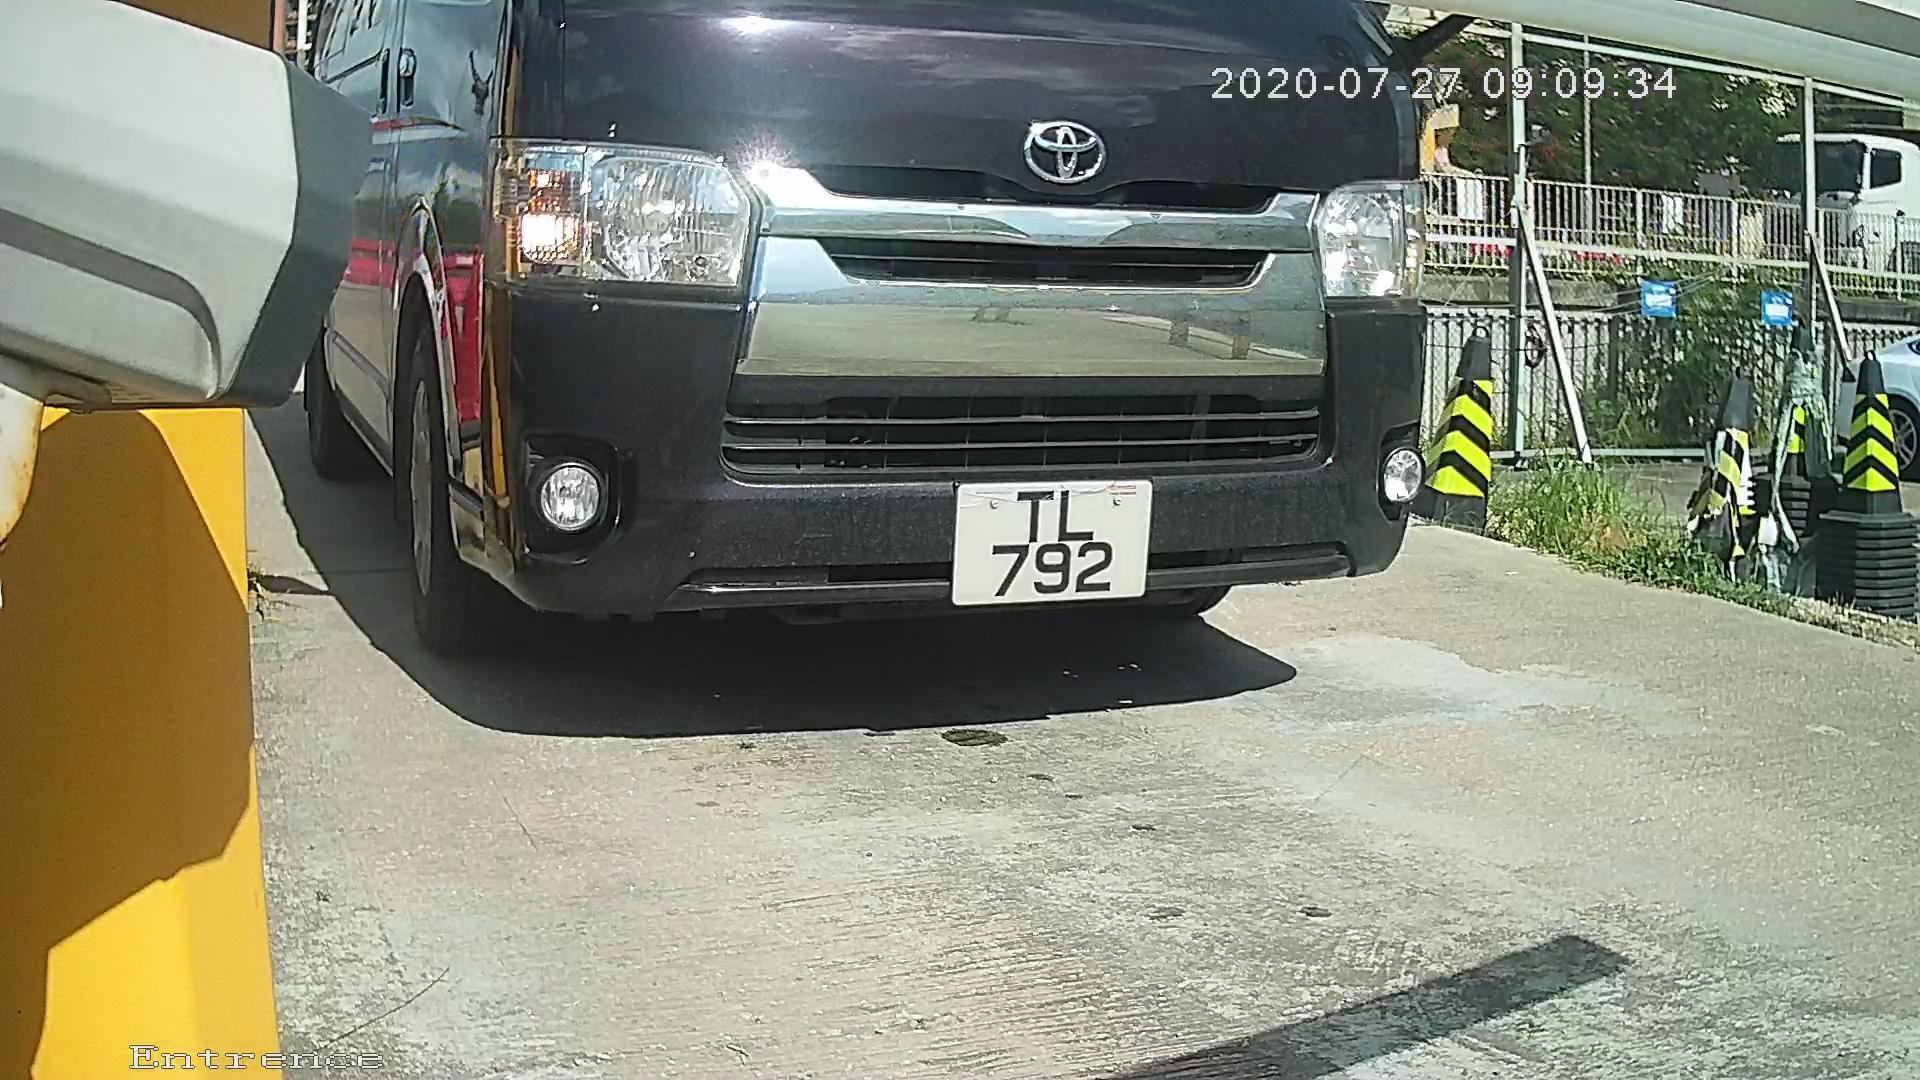Car: (112, 39, 1569, 753)
License Plate: (926, 473, 1158, 608)
